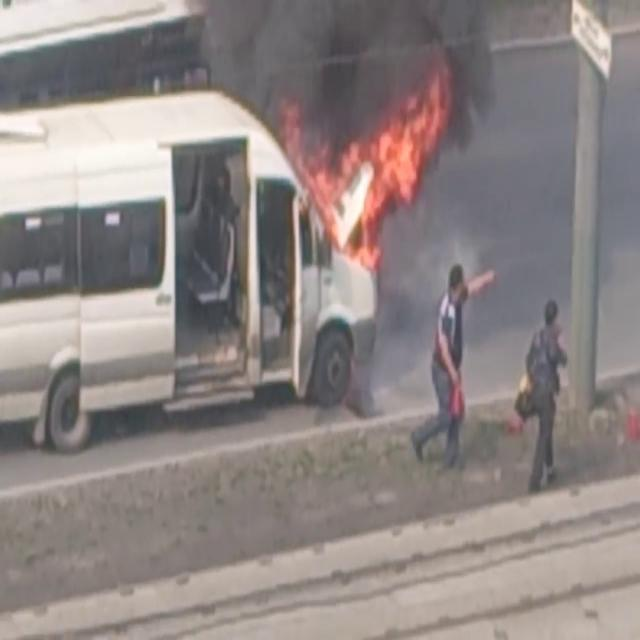Fire: (304, 68, 454, 266)
